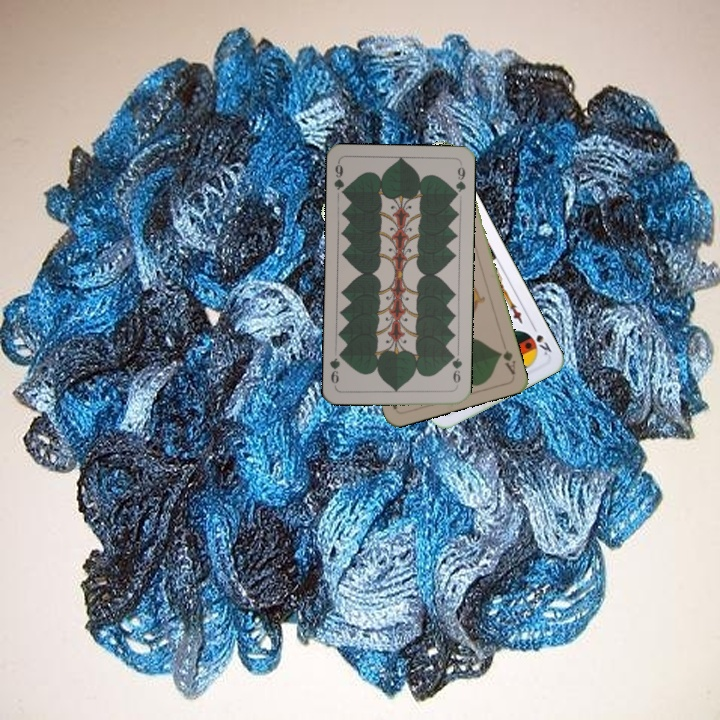G9: (330, 159, 349, 199), (447, 349, 464, 390)
GA: (495, 338, 518, 377)
SK: (528, 321, 554, 358)
